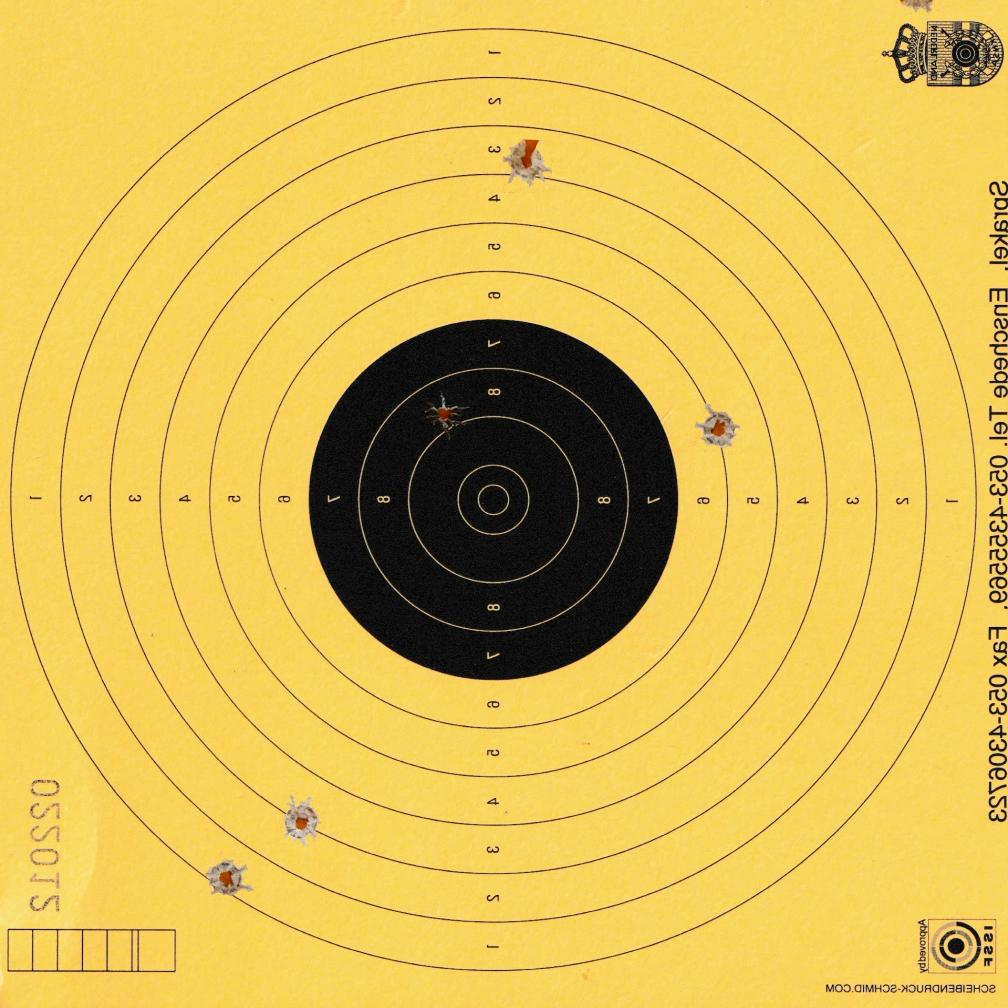1: (204, 857, 247, 897)
2: (284, 798, 320, 844)
4: (508, 136, 552, 182)
6: (696, 408, 746, 449)
9: (424, 393, 462, 441)
Target: (11, 25, 980, 975)
black_contour: (308, 318, 680, 681)
